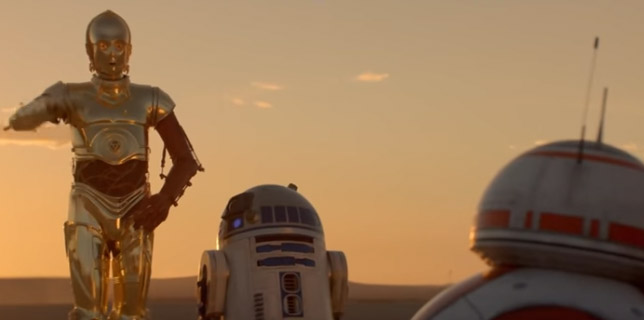bb8: (410, 140, 644, 319)
